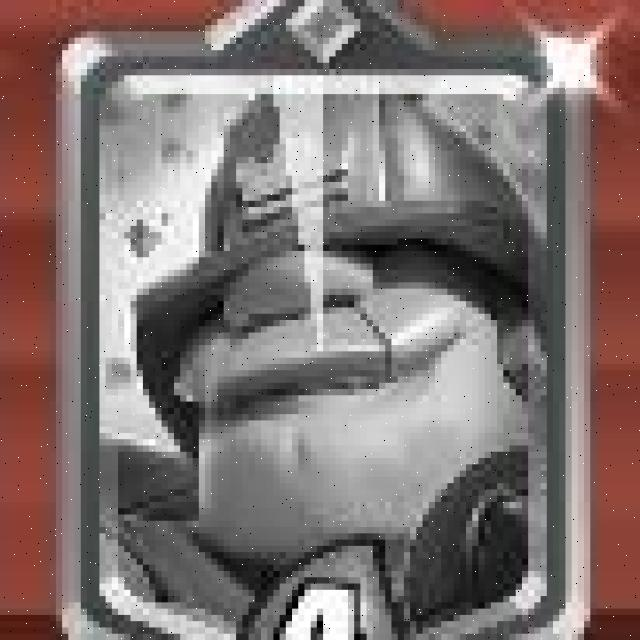Mighty_Miner: (58, 29, 593, 640)
